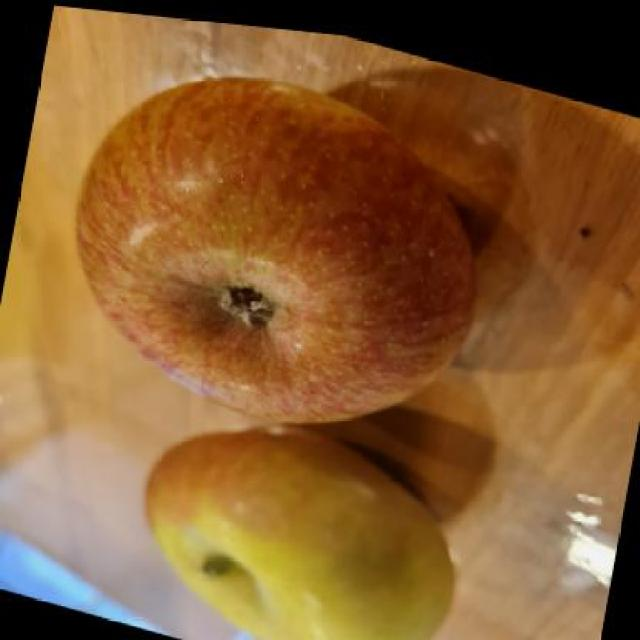Fresh Apple: (79, 77, 478, 432), (103, 432, 479, 640)
